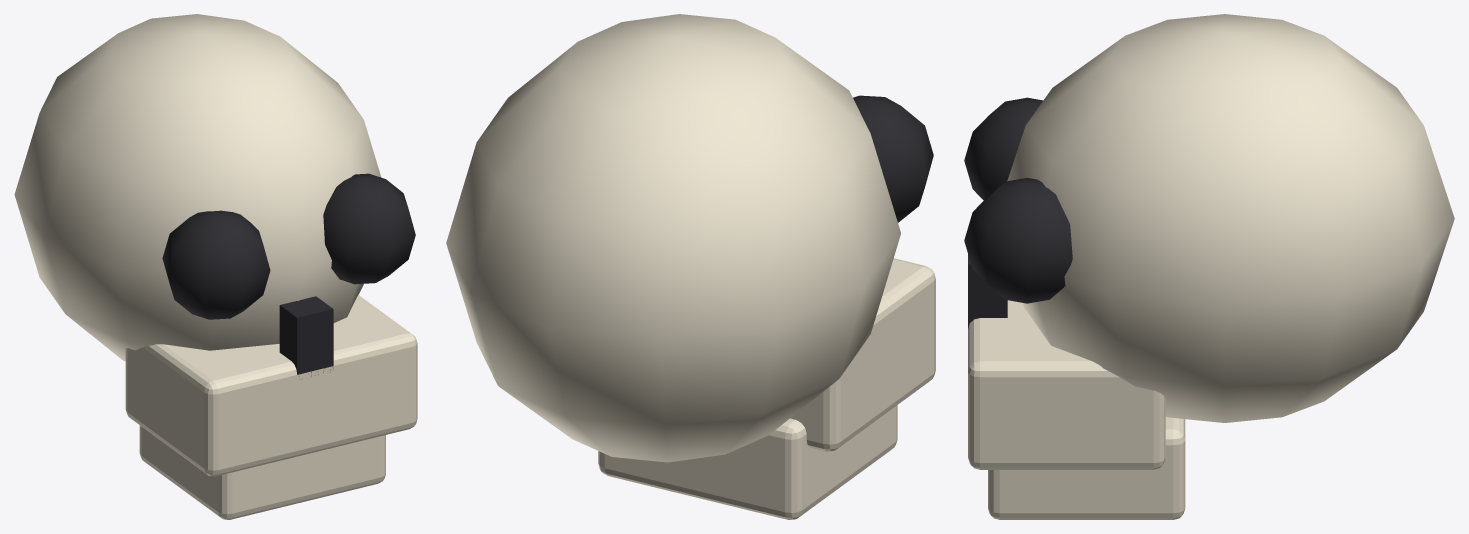
File: skull_plain.glb
3 views of the same model, side by side, from view 1: azimuth 30°, elevation 25°; view 2: azimuth 150°, elevation 25°; view 3: azimuth 270°, elevation 25° (orthographic). The views are drawn at different scales.
Parts seen in each view (by area): view 1: GD_skull_plain__m0, GD_skull_plain__m1; view 2: GD_skull_plain__m0, GD_skull_plain__m1; view 3: GD_skull_plain__m0, GD_skull_plain__m1.
Part boxes in pixels (<box>): GD_skull_plain__m0: <box>14,14,417,519</box>; GD_skull_plain__m1: <box>162,173,415,379</box>; GD_skull_plain__m0: <box>446,14,935,519</box>; GD_skull_plain__m1: <box>853,95,933,222</box>; GD_skull_plain__m0: <box>968,14,1454,519</box>; GD_skull_plain__m1: <box>964,97,1072,328</box>.
Size of the model in its own units: 0.1248 by 0.1494 by 0.1491.
